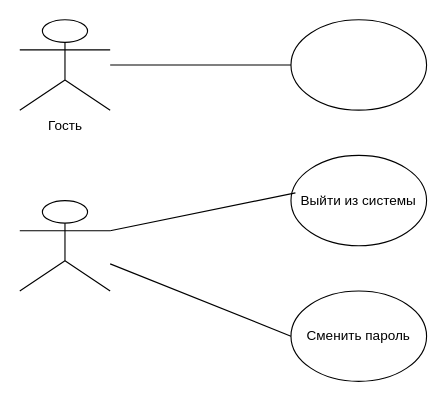
This 446x401 diagram has some shape labels left out. The shapes that lost their labels are listed below. From the top down, each one's box as (x1, y1, x2, y2) in pixels, then its label:
(290, 19, 427, 110): Авторизоваться
(19, 199, 110, 291): Пользователь
